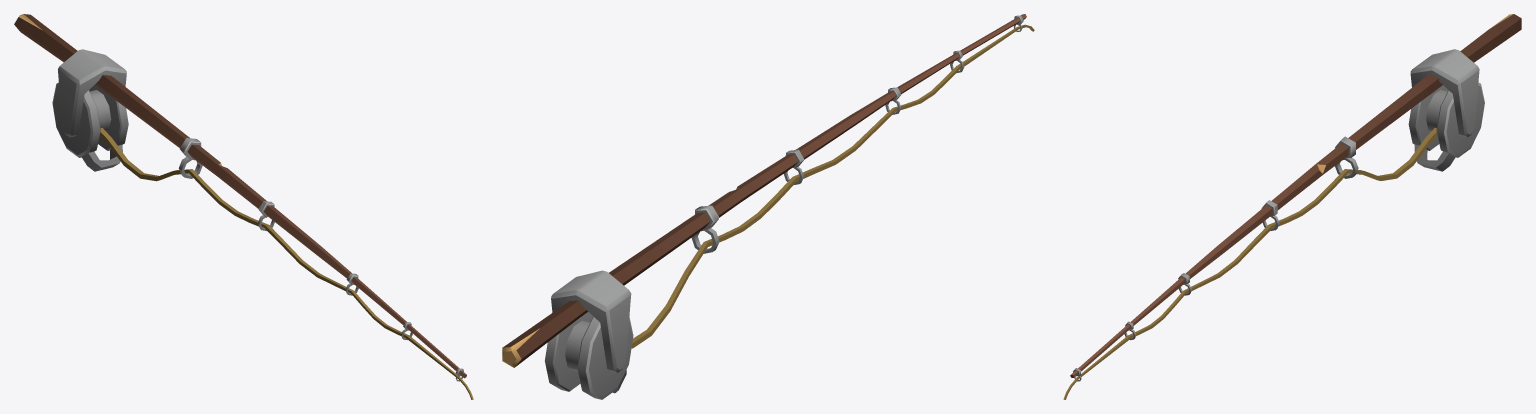
File: FishingRod_C.glb
3 renders of one model, left to right at view 1: azimuth 30°, elevation 25°; view 2: azimuth 150°, elevation 25°; view 3: azimuth 330°, elevation 25°, orthographic. The views are drawn at different scales.
Parts seen in each view (by area): view 1: FishingRod_C; view 2: FishingRod_C; view 3: FishingRod_C.
Boxes of the visible parts, x1,y1,x2,y2 form: FishingRod_C: [14, 14, 473, 399]; FishingRod_C: [502, 14, 1034, 399]; FishingRod_C: [1063, 14, 1521, 399].
Bounding box in the file's own units: 0.1858 × 0.3493 × 2.78.
Materials: 2 (2 with a texture image).
